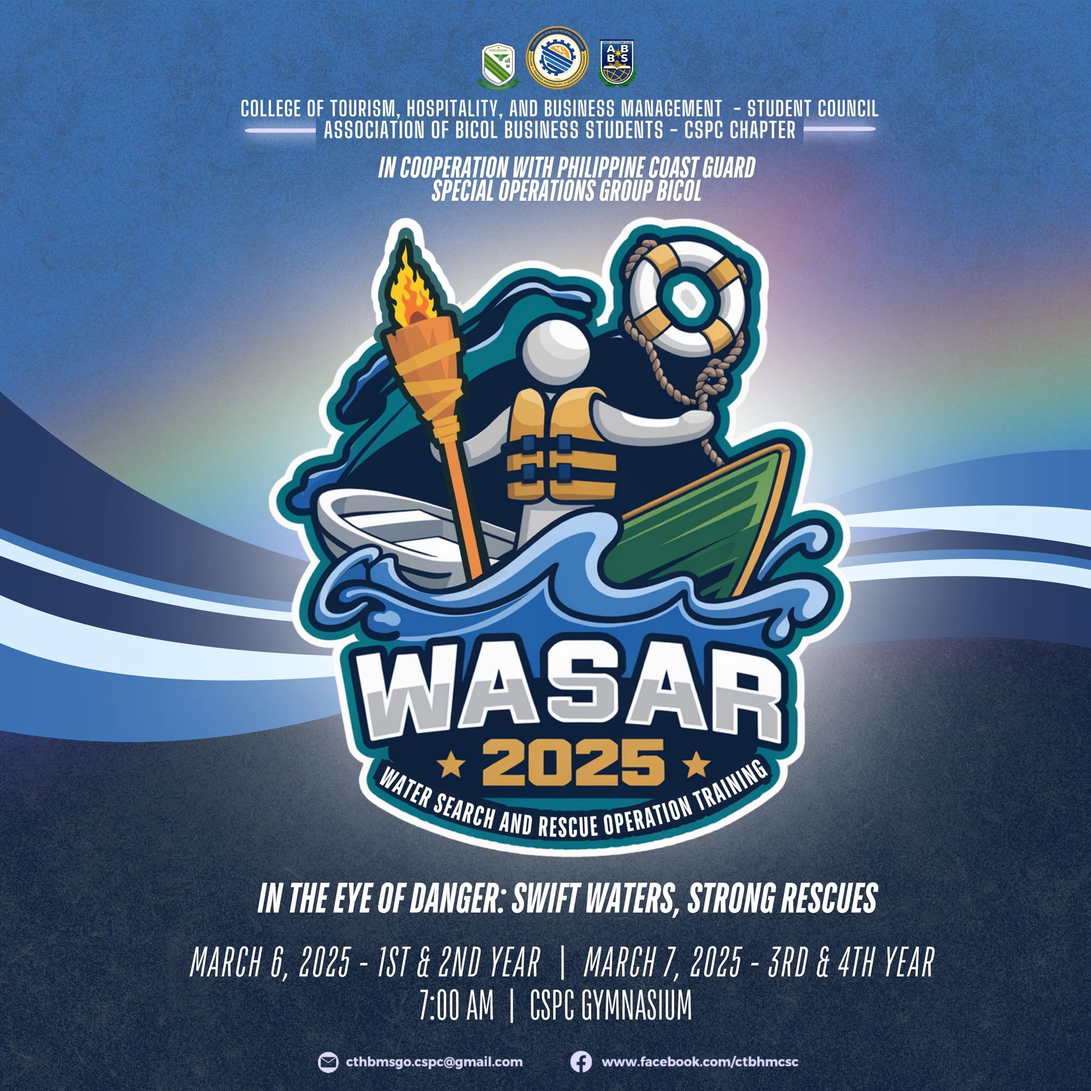embellishment: (267, 216, 851, 858), (525, 24, 591, 89), (479, 42, 516, 89), (599, 40, 635, 87), (435, 751, 466, 780), (681, 751, 711, 779), (242, 127, 316, 133), (803, 127, 877, 133), (317, 1052, 339, 1072), (571, 1052, 591, 1072)
logo: (267, 215, 852, 858), (524, 23, 591, 92), (599, 39, 636, 91), (480, 39, 516, 92)
text: (357, 640, 781, 742), (379, 758, 768, 837), (190, 945, 934, 982), (257, 882, 877, 913), (240, 98, 877, 118), (324, 120, 795, 140), (420, 988, 691, 1022), (482, 737, 665, 785), (378, 156, 755, 178), (432, 179, 703, 202), (346, 1055, 523, 1069), (600, 1055, 799, 1067)
underlay: (359, 752, 791, 857)
